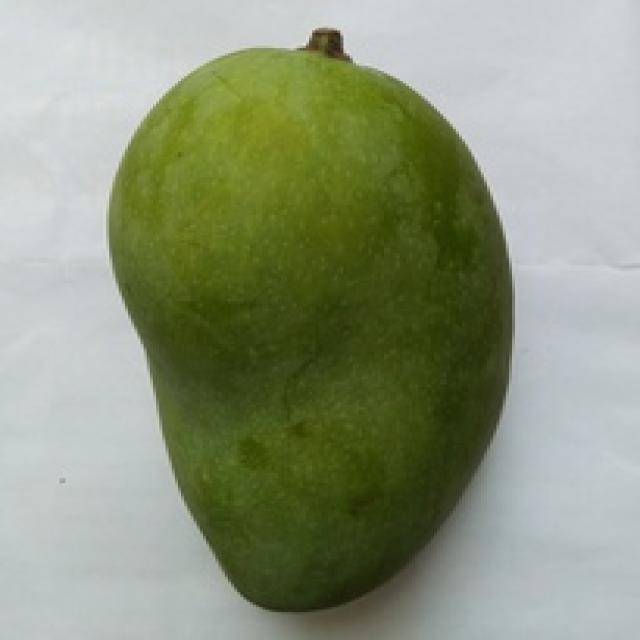Mango: (112, 33, 509, 610)
